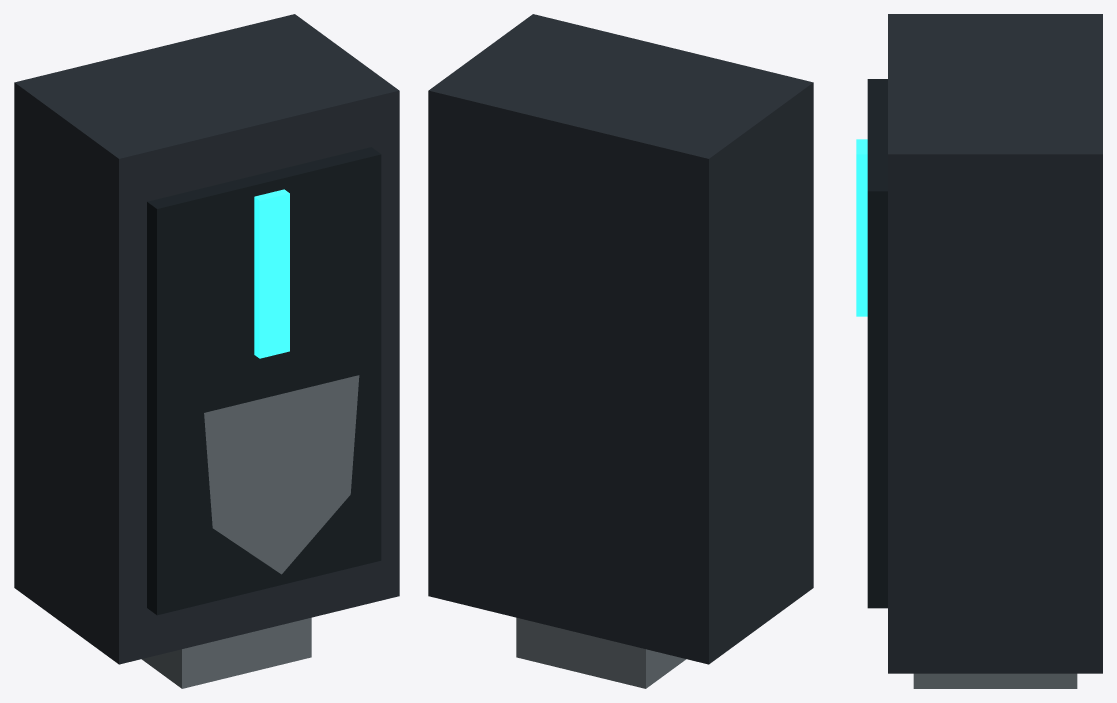
File: security_module.glb
The picture shows the model from 3 angles, left to right: view 1: azimuth 30°, elevation 25°; view 2: azimuth 150°, elevation 25°; view 3: azimuth 270°, elevation 25°; orthographic projection. The views are drawn at different scales.
Parts seen in each view (by area): view 1: Cartridge, CartridgeFace, ShieldGlyph, LockTab, CapacityStripe; view 2: Cartridge, LockTab; view 3: Cartridge, CartridgeFace, LockTab, CapacityStripe.
Part boxes in pixels (x1,y1,x2,y2): Cartridge: [14, 14, 399, 664]; CartridgeFace: [147, 147, 381, 615]; ShieldGlyph: [204, 375, 359, 574]; LockTab: [141, 617, 311, 688]; CapacityStripe: [254, 189, 289, 358]; Cartridge: [428, 14, 813, 664]; LockTab: [516, 617, 686, 688]; Cartridge: [888, 14, 1102, 673]; CartridgeFace: [867, 79, 887, 608]; LockTab: [913, 673, 1077, 688]; CapacityStripe: [856, 139, 867, 316].
Size of the model in its own units: 0.65 by 1.24 by 0.51.
